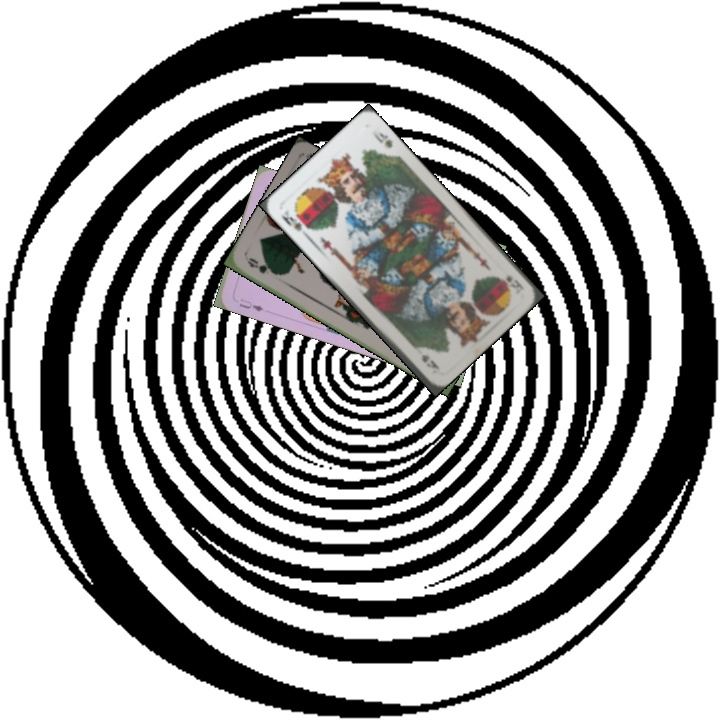EU: (235, 294, 266, 314)
GO: (243, 253, 281, 278)
SK: (276, 205, 312, 234), (494, 271, 526, 297)
